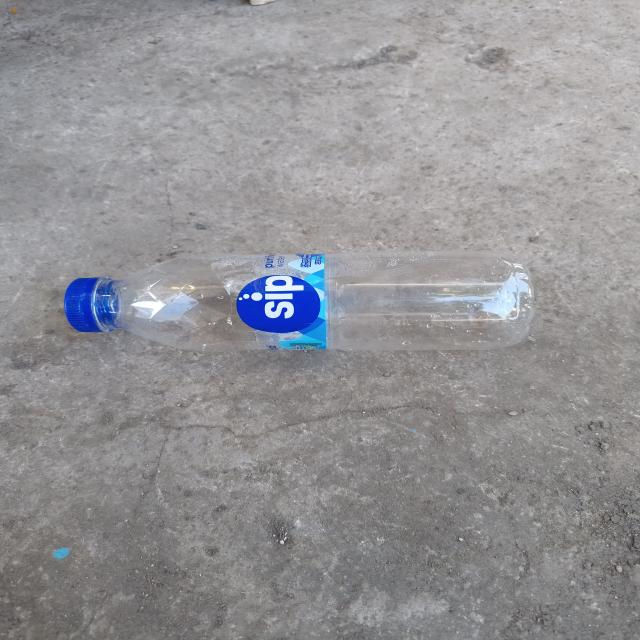Bottle: (64, 251, 534, 351)
